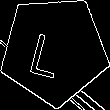L_N: (33, 22, 75, 78)
